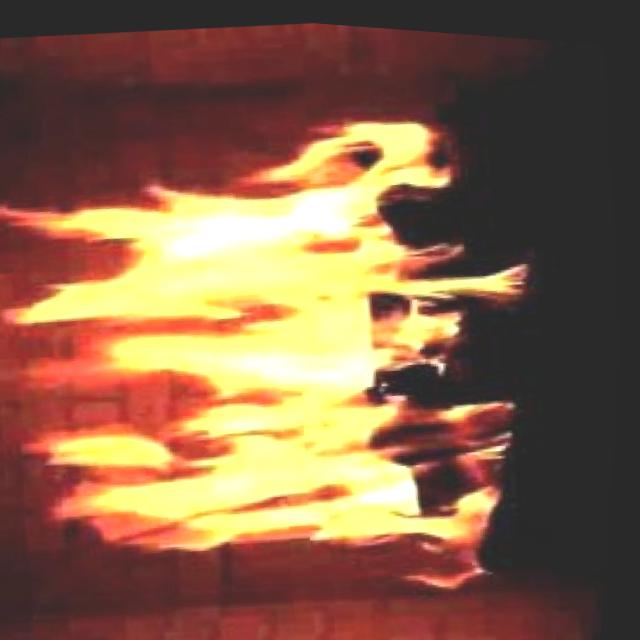helmet: (0, 57, 586, 640)
